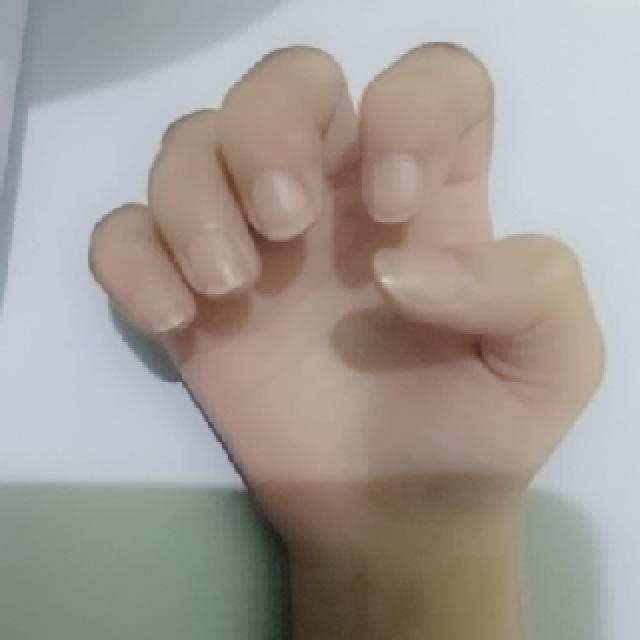Nail: (375, 248, 474, 301), (251, 169, 315, 240), (191, 230, 249, 295), (368, 154, 422, 222), (131, 276, 186, 332)
